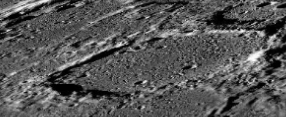crater: (33, 13, 283, 109)
